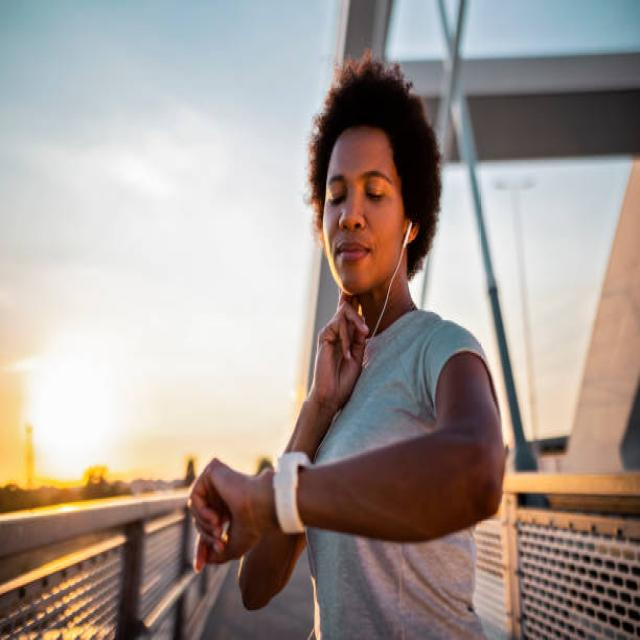Earphone: (374, 217, 414, 332)
